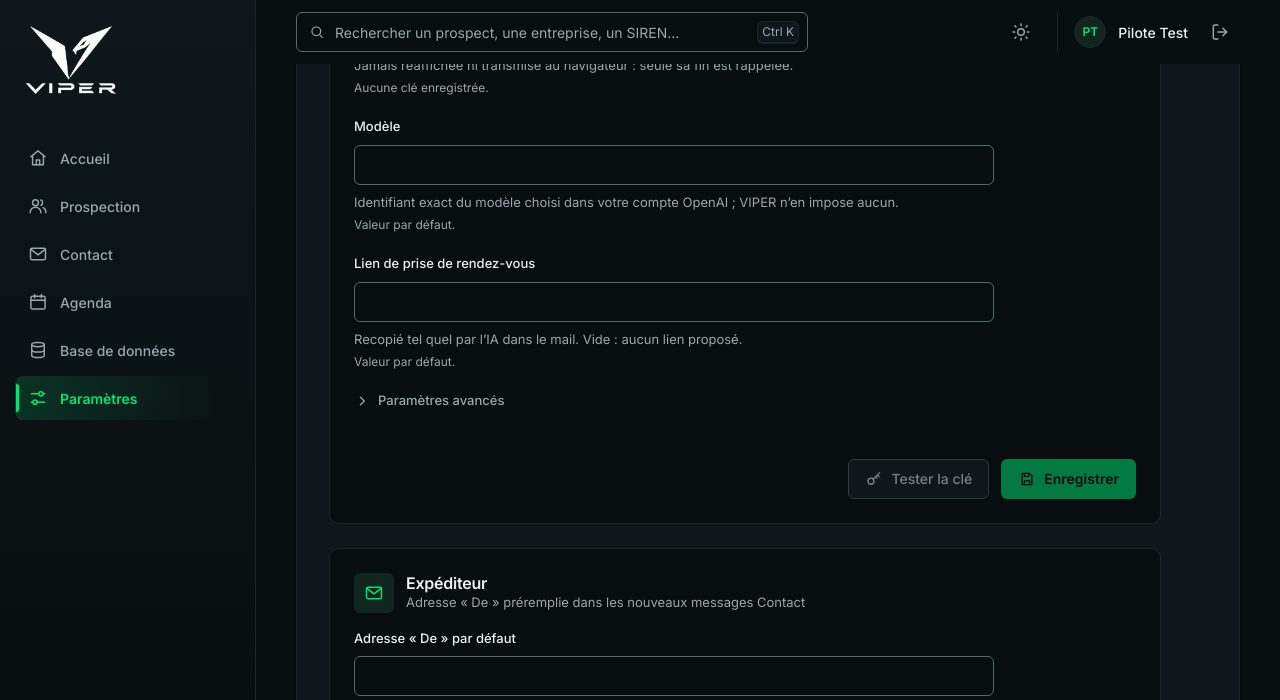
Test: Rédaction IA (OpenAI) › refuses a timeout that is not a number before sending anything
The image size is (1280, 700).
(page scrolled)
Click the heading "Paramètres avancés". click: x=429, y=401
box: [354, 391, 504, 410]
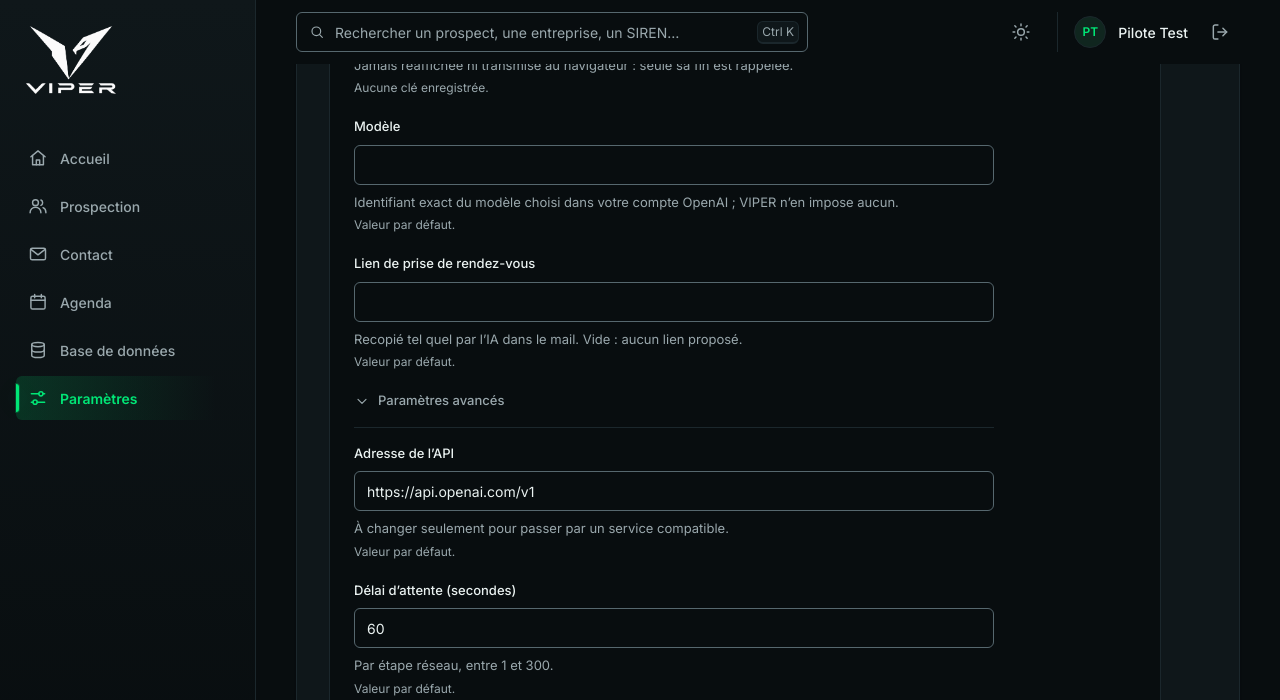
Check: the field labelled "Délai d’attente (secondes)" holds "60"
Replace the text in the field labelled "Délai d’attente (secondes)" with "vite". click: x=674, y=628
box: [354, 608, 994, 648]
(page scrolled)
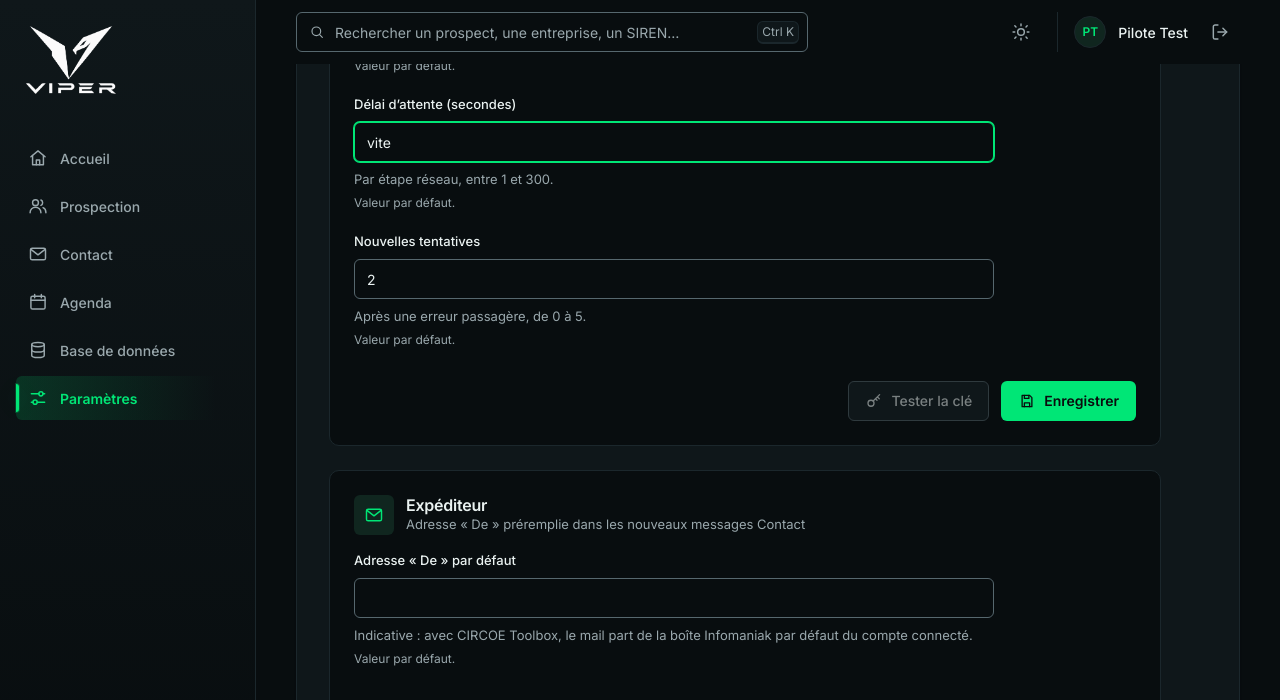
Click the 1st button "Enregistrer". click: x=1069, y=400
box: [1001, 380, 1136, 420]
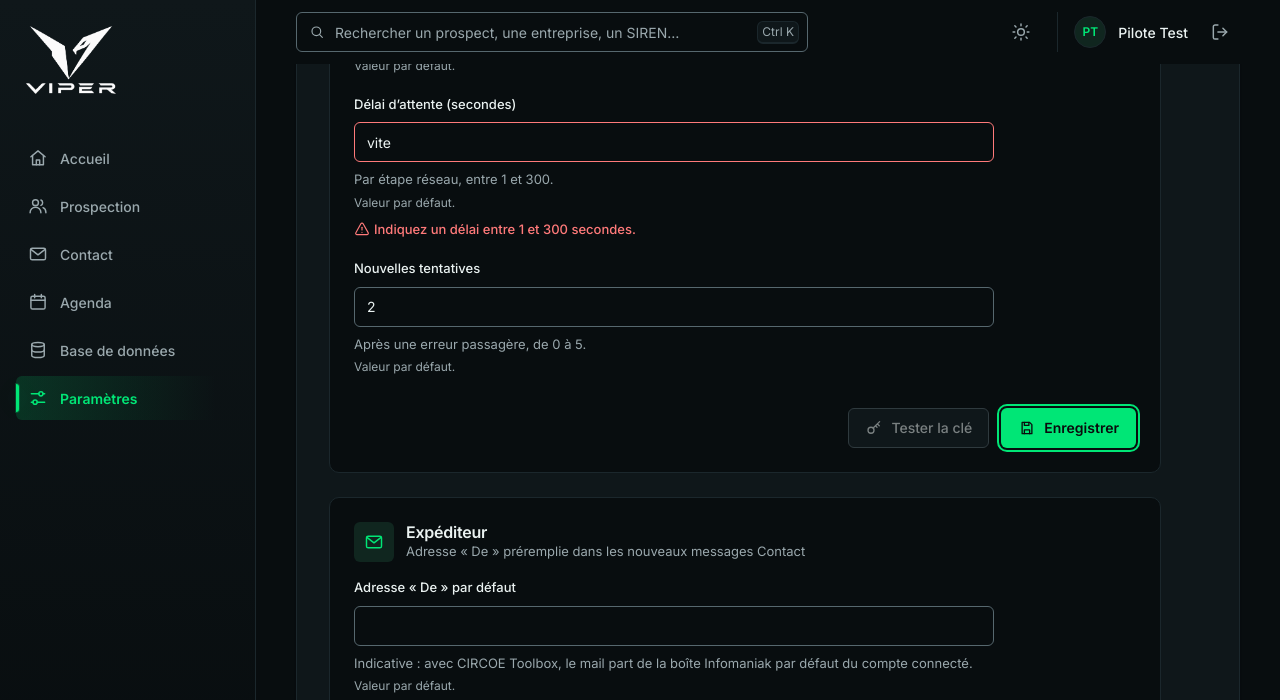
Check: the text "Indiquez un délai entre 1 et 300 secondes." is shown, box [354, 220, 636, 237]
